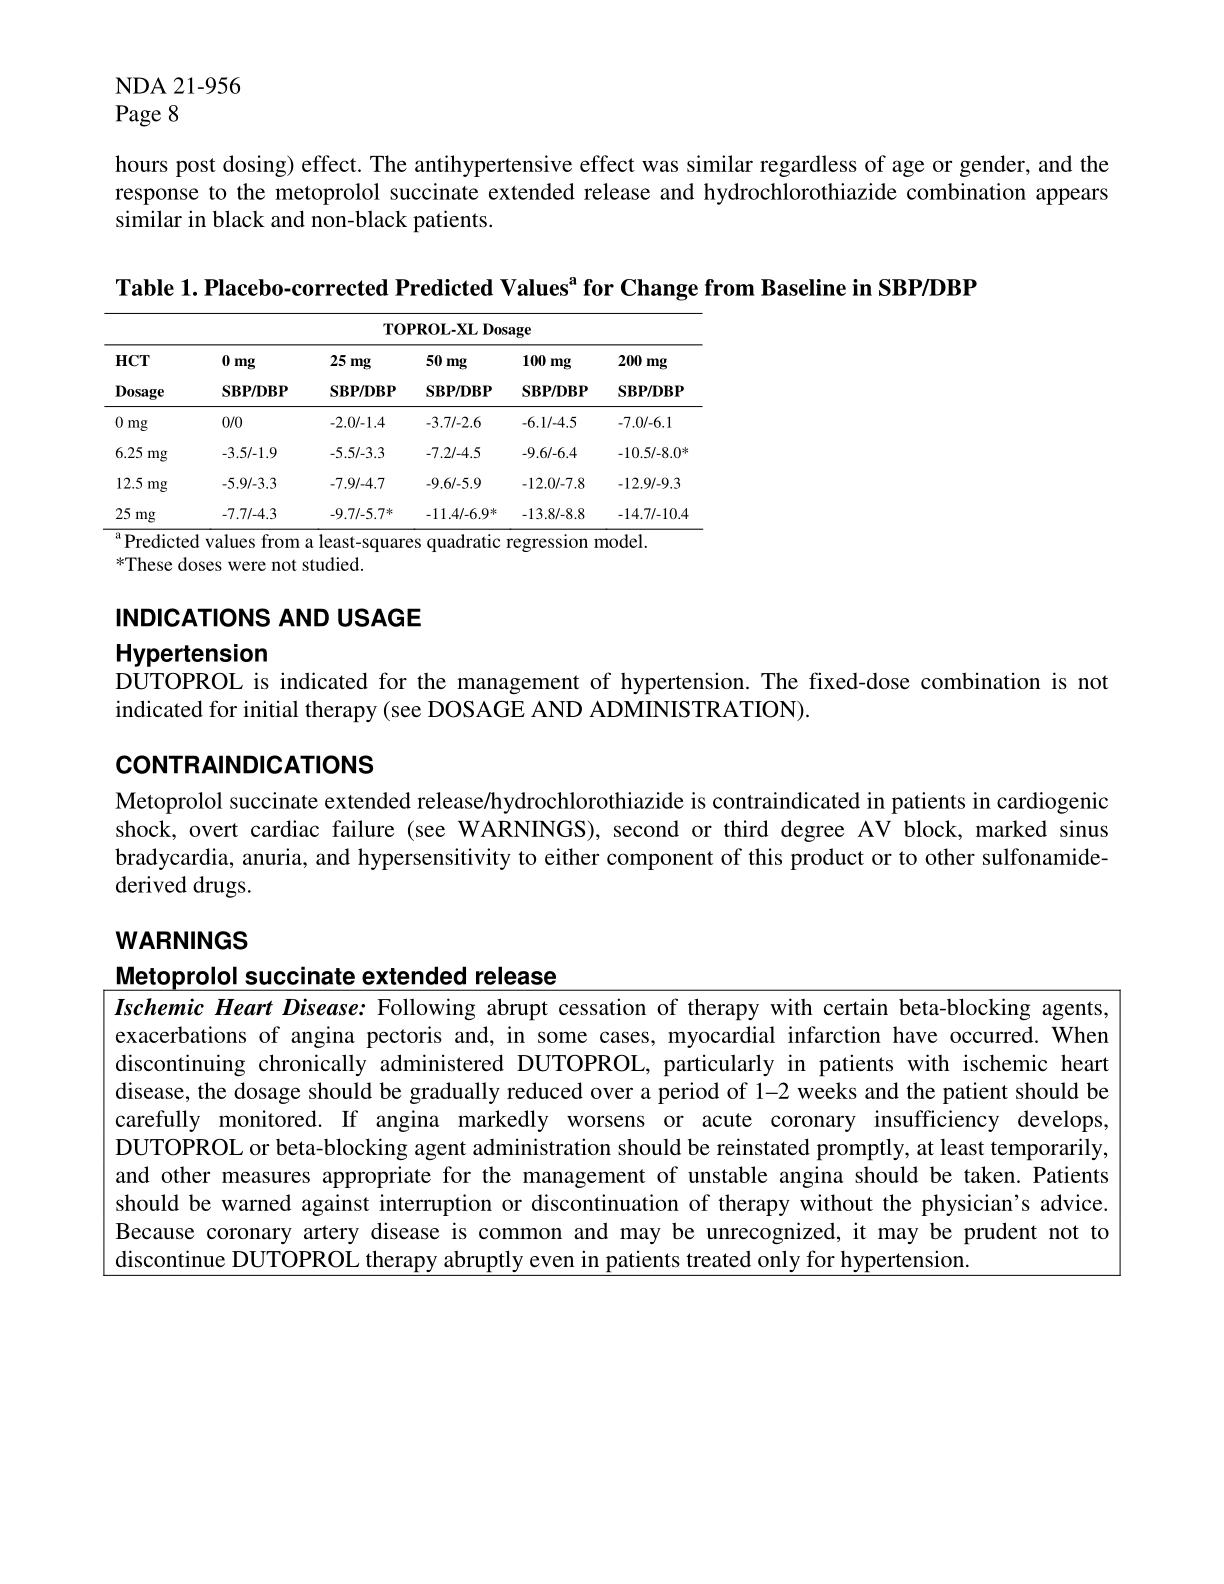partial_lined: (105, 342, 702, 531)
